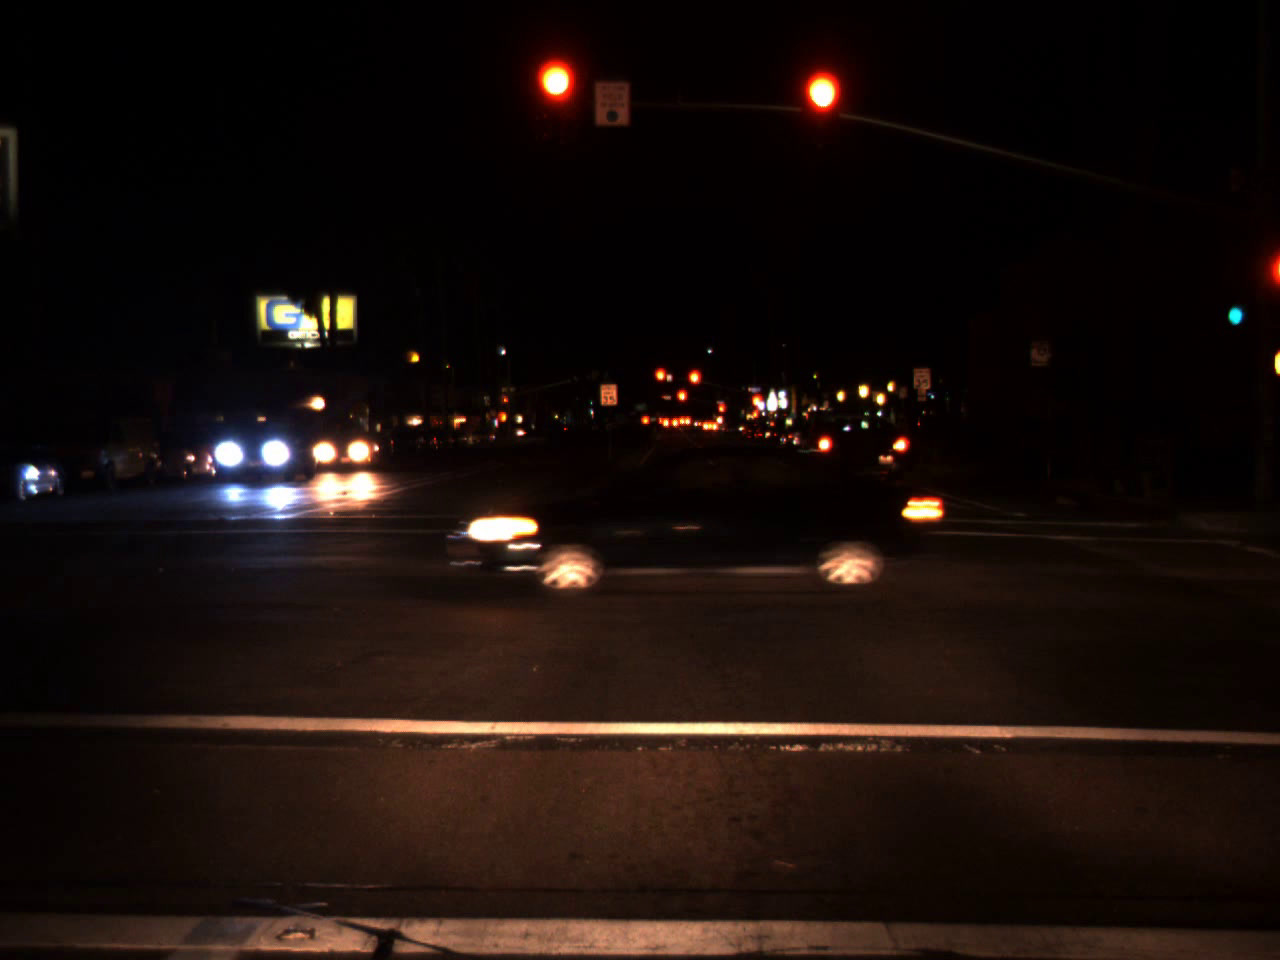stop: (537, 61, 577, 139), (801, 73, 840, 148), (686, 367, 702, 402), (675, 387, 688, 414), (653, 367, 666, 394), (749, 393, 764, 409), (717, 402, 726, 423), (503, 397, 509, 407)
